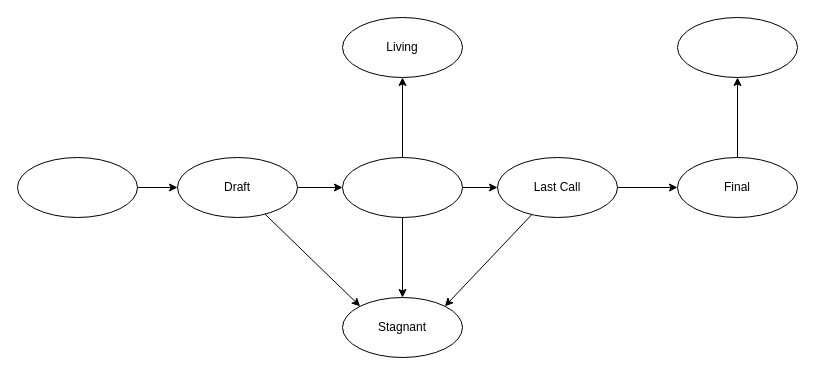
Some shapes in this 815 by 375 pixel diagram are drawn without their labels. Here are the shapes that lost their labels. From the top down, the centre of each, then its label:
(x=737, y=47): Replaced
(x=77, y=187): Idea
(x=402, y=187): Review
